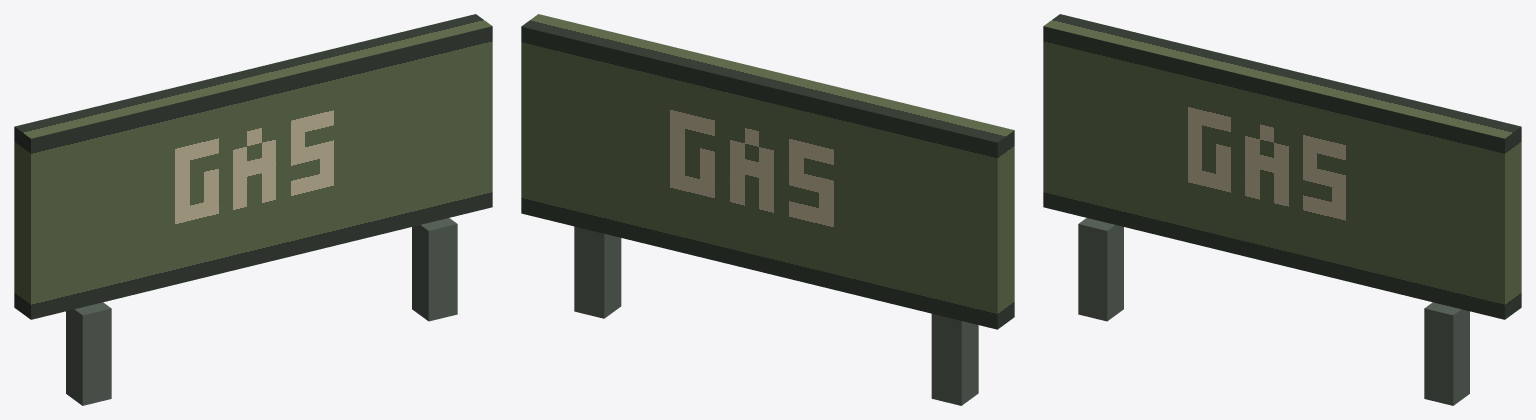
File: sign_gas.gltf
The picture shows the model from 3 angles, left to right: view 1: azimuth 30°, elevation 25°; view 2: azimuth 150°, elevation 25°; view 3: azimuth 330°, elevation 25°; orthographic projection. The views are drawn at different scales.
Visible parts, largest first — view 1: signboard, support (×2); view 2: signboard, support (×2); view 3: signboard, support (×2).
Boxes of the visible parts, left/top/right/bottom form: signboard: left=14, top=14, right=492, bottom=319; support (×2): left=66, top=218, right=457, bottom=405; signboard: left=521, top=14, right=1014, bottom=329; support (×2): left=574, top=226, right=978, bottom=405; signboard: left=1043, top=14, right=1521, bottom=319; support (×2): left=1078, top=218, right=1469, bottom=405.
Bounding box in the file's own units: 2 × 1.12 × 0.1875.
Materials: 2 (2 with a texture image).
